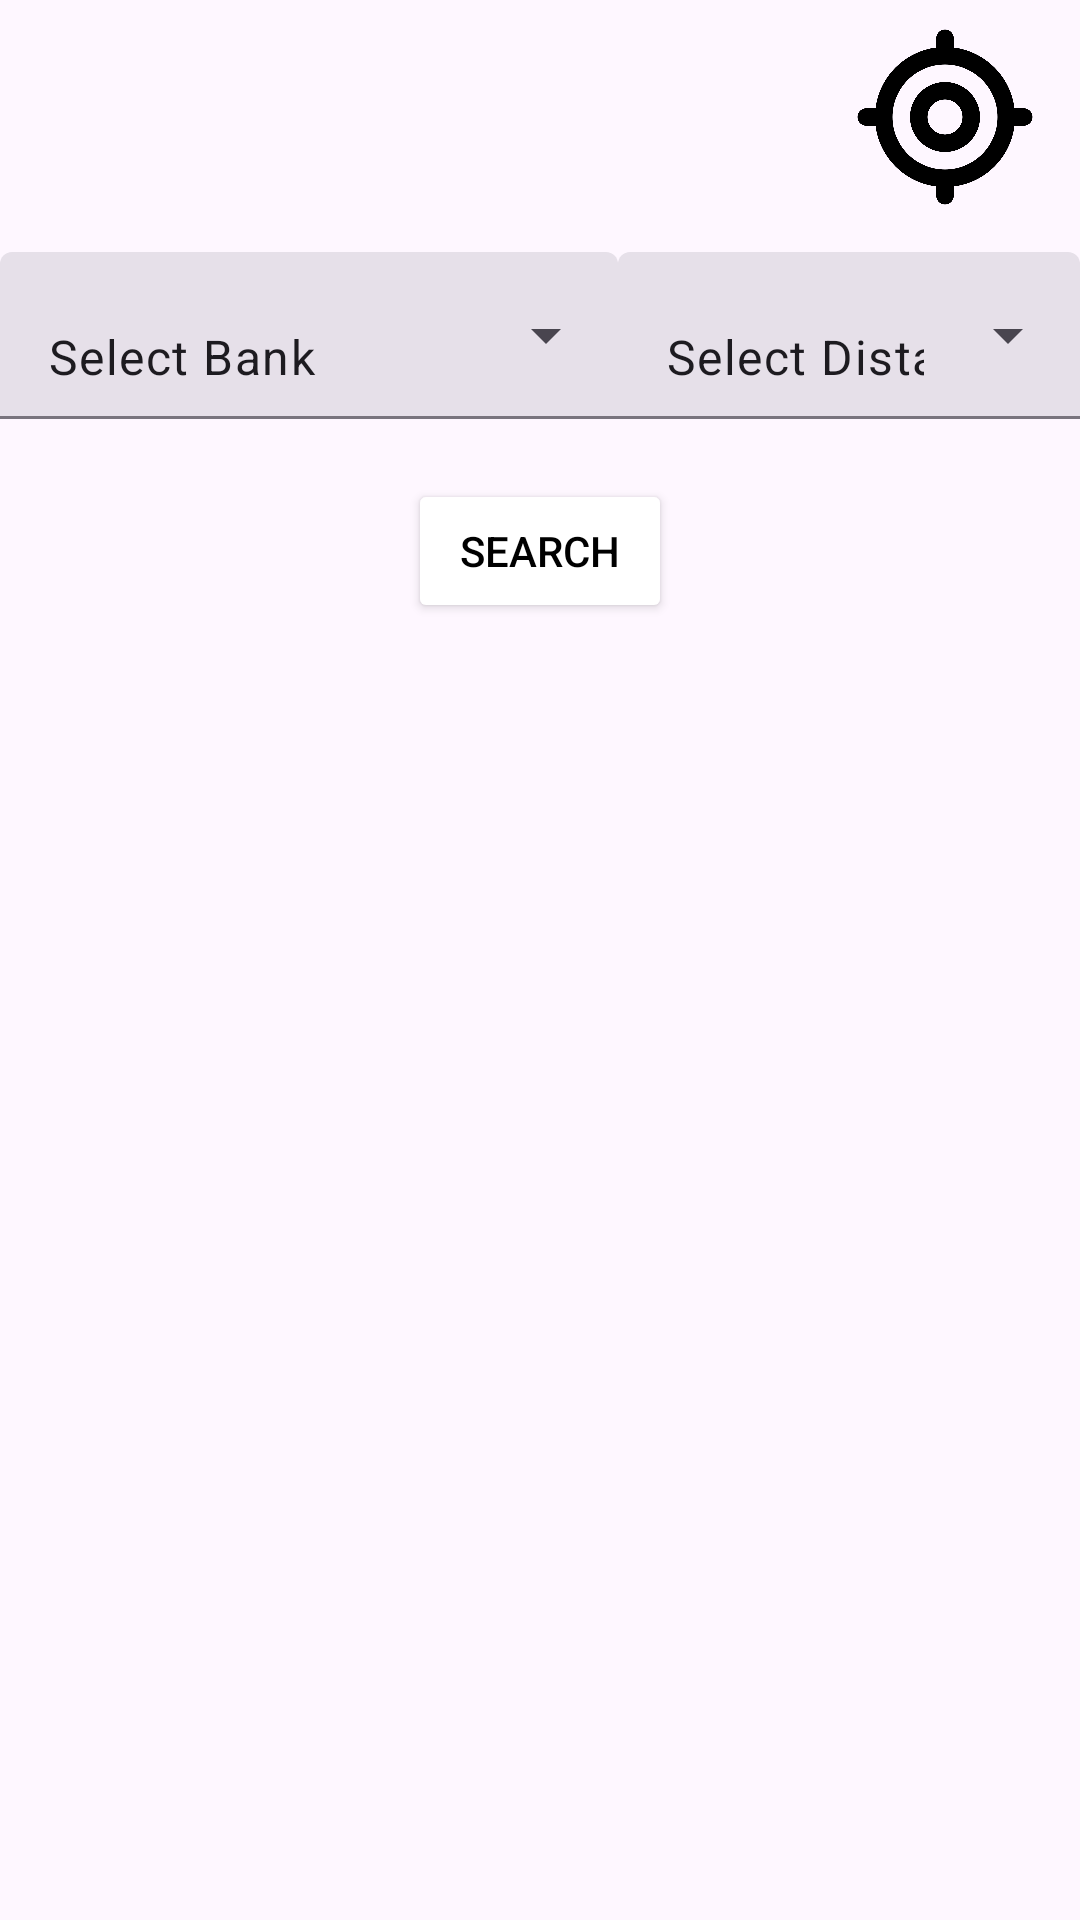

Icon click points for this 1080 × 1920 phone screenshot, format point (x, y):
Recenter Button: point (945, 117)
